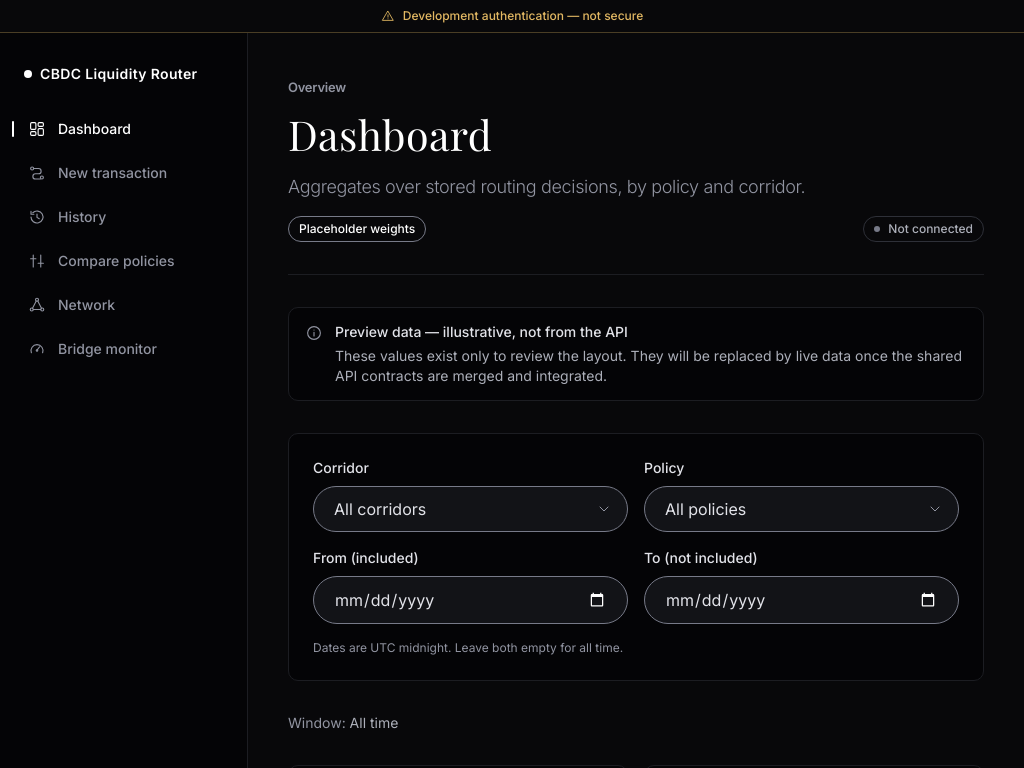
Test: Dashboard filters (URL-backed) › filters the summary by corridor and writes it to the URL
This screenshot has width=1024, height=768.
Select "GBR → PHL" in the dropdown labelled "Corridor" at (470, 509), box x1=313 y1=486 x2=628 y2=532
(page scrolled)
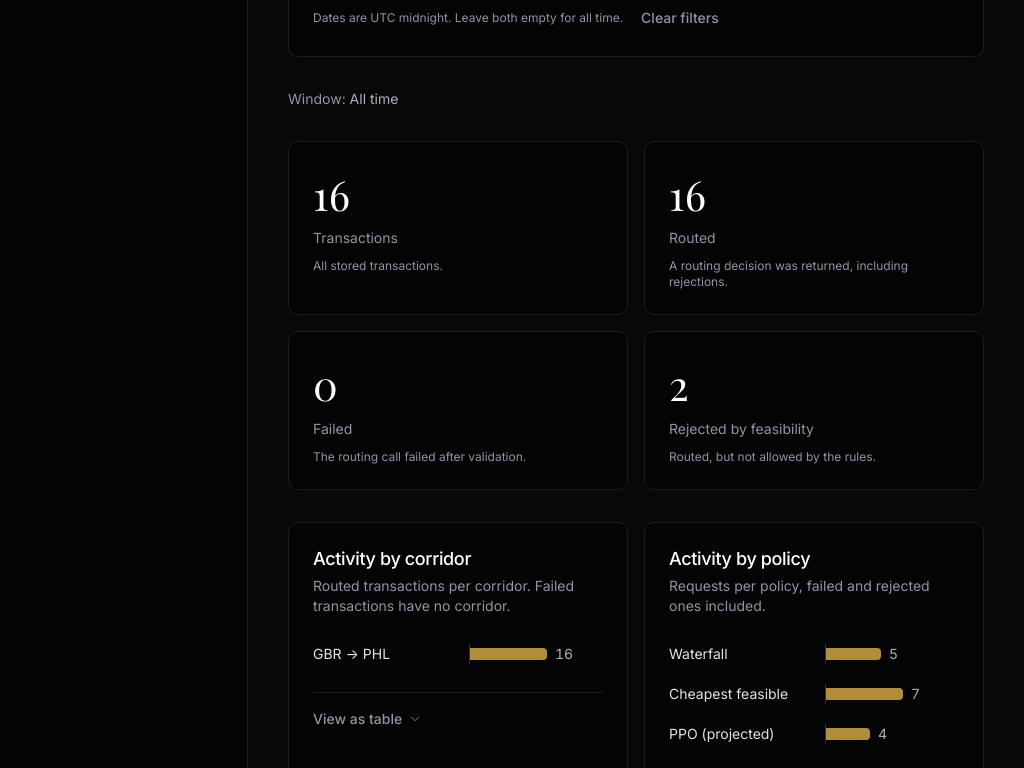
Result: the 1st text "16" is shown at x1=313 y1=166 x2=350 y2=221
Result: the 2nd text "16" is shown at x1=669 y1=166 x2=706 y2=221
Result: the text "0" is shown at x1=313 y1=356 x2=338 y2=412
